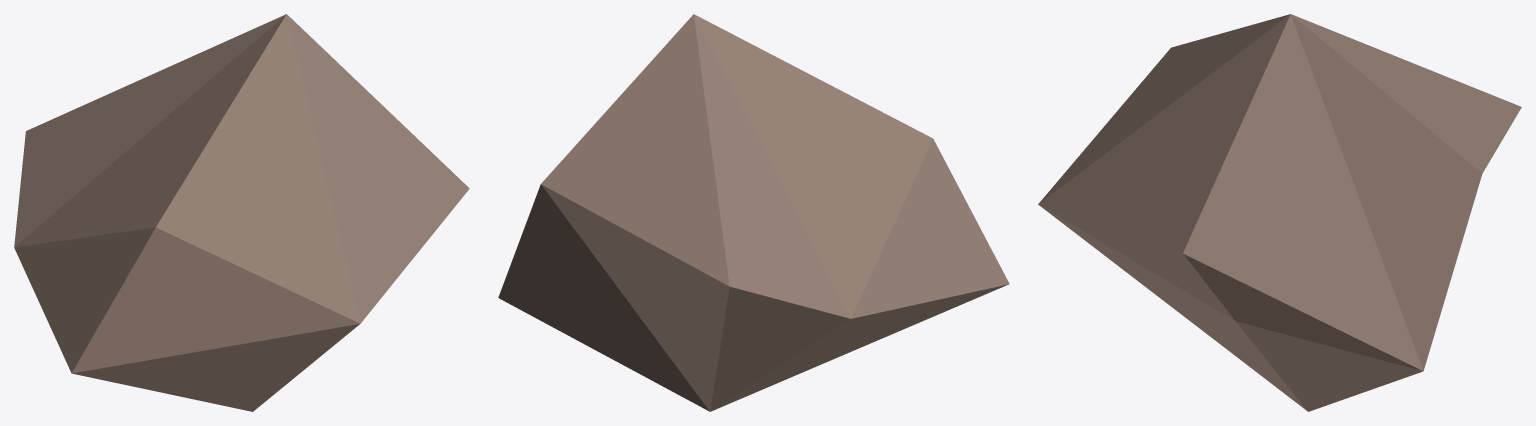
The model's file is RockMed2.fbx.
3 renders of one model, left to right at view 1: azimuth 30°, elevation 25°; view 2: azimuth 150°, elevation 25°; view 3: azimuth 270°, elevation 25°, orthographic. The views are drawn at different scales.
Parts seen in each view (by area): view 1: RockMed2; view 2: RockMed2; view 3: RockMed2.
Part boxes in pixels (x1=…): RockMed2: x1=14, y1=14, x2=469, y2=411; RockMed2: x1=498, y1=14, x2=1009, y2=411; RockMed2: x1=1038, y1=14, x2=1521, y2=411.
Size of the model in its own units: 1.74 by 1.62 by 1.73.
